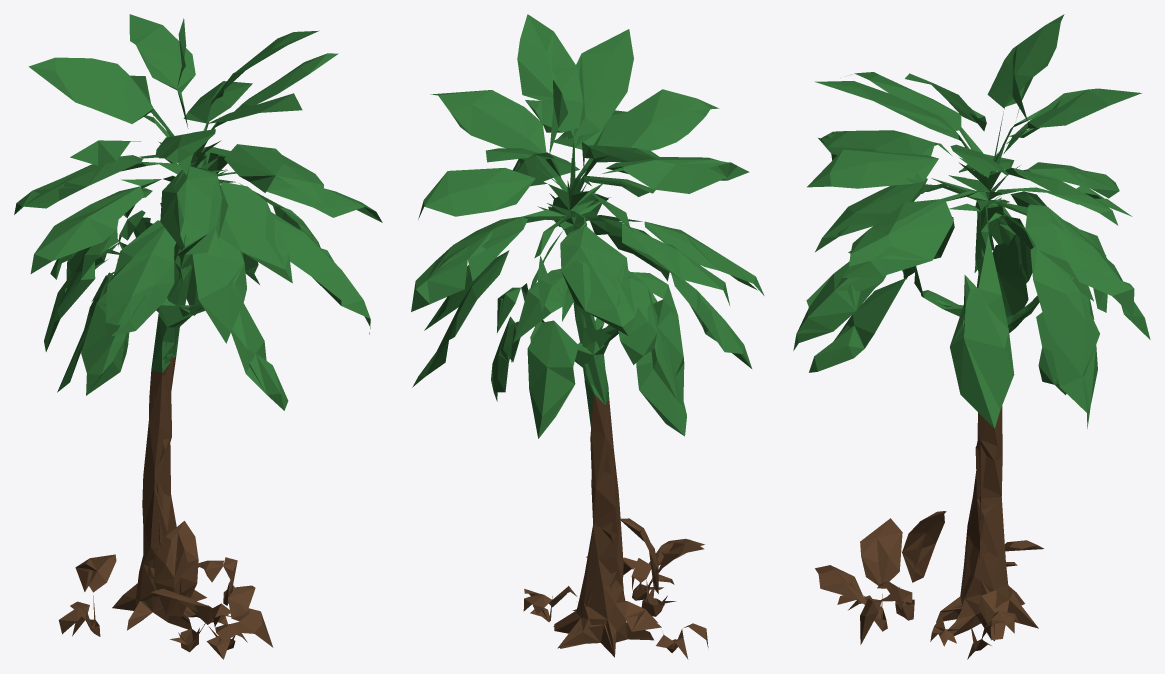
Rendered from tree-4.glb.
3 renders of one model, left to right at view 1: azimuth 30°, elevation 25°; view 2: azimuth 150°, elevation 25°; view 3: azimuth 270°, elevation 25°, orthographic. The views are drawn at different scales.
Parts seen in each view (by area): view 1: output_unwrapped; view 2: output_unwrapped; view 3: output_unwrapped.
Part boxes in pixels (x1,y1,x2,y2): output_unwrapped: (14, 14, 382, 659); output_unwrapped: (411, 14, 764, 659); output_unwrapped: (793, 14, 1150, 659).
Size of the model in its own units: 3.88 by 7 by 3.74.
